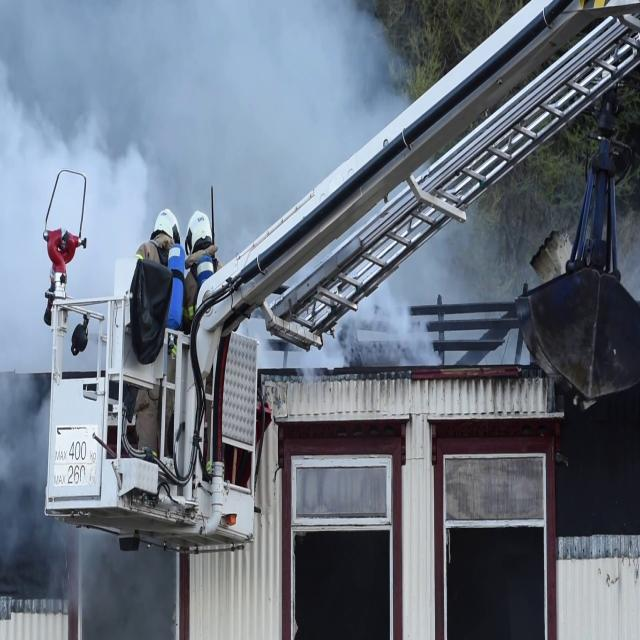Smoke: (3, 0, 399, 297), (376, 212, 562, 376), (0, 361, 79, 587)
